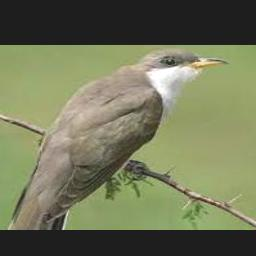Cuckoo: (6, 49, 228, 230)
